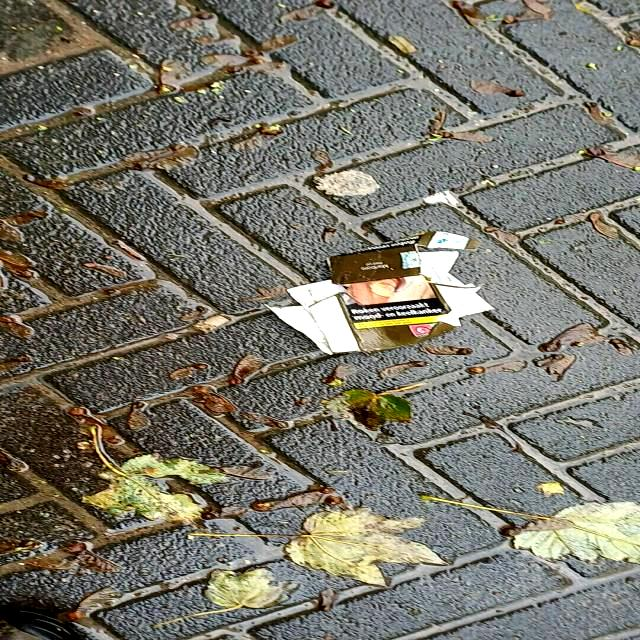Paper: (256, 229, 498, 357)
